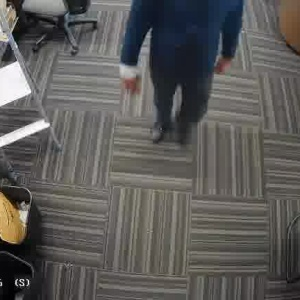person: (120, 0, 247, 139)
